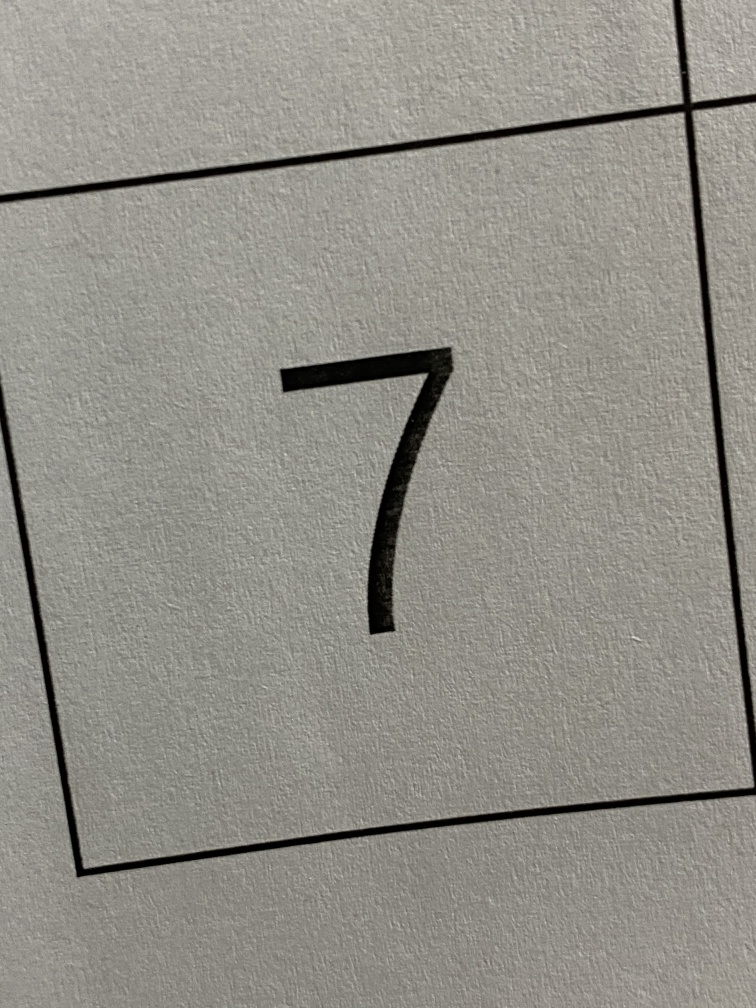seven: (228, 277, 521, 700)
